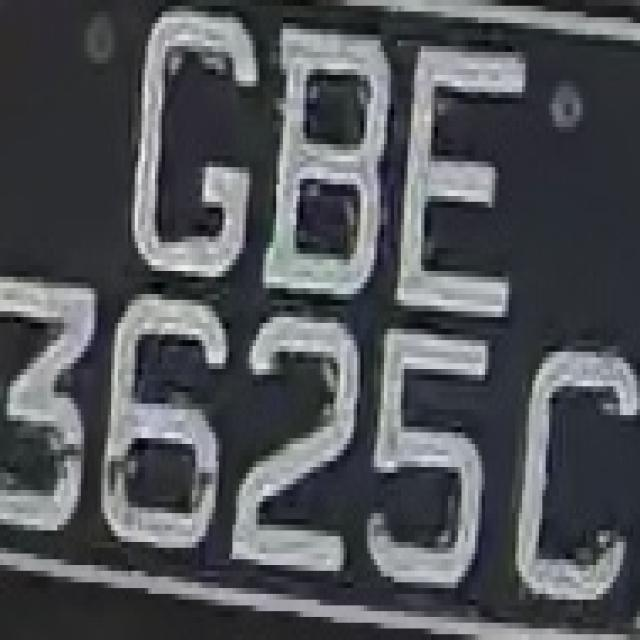2: (222, 294, 350, 617)
3: (3, 225, 98, 565)
5: (364, 306, 495, 606)
6: (101, 254, 226, 576)
B: (263, 6, 394, 317)
C: (522, 306, 633, 628)
E: (401, 46, 529, 340)
G: (125, 6, 262, 288)
